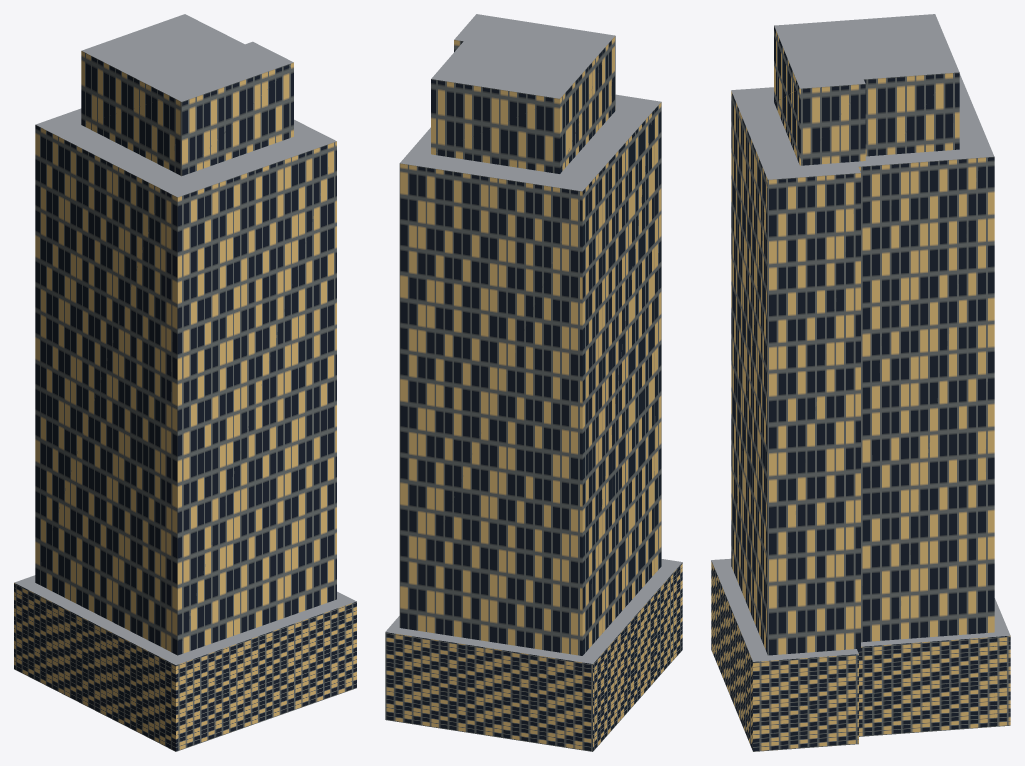
File: jp-morgan.glb
3 renders of one model, left to right at view 1: azimuth 30°, elevation 25°; view 2: azimuth 150°, elevation 25°; view 3: azimuth 270°, elevation 25°, orthographic. The views are drawn at different scales.
Parts seen in each view (by area): view 1: jp-morgan; view 2: jp-morgan; view 3: jp-morgan.
Part boxes in pixels (box(x1,y1,x2,y2)): jp-morgan: box(14, 14, 356, 751); jp-morgan: box(385, 14, 682, 751); jp-morgan: box(711, 14, 1010, 751).
Size of the model in its own units: 0.8287 by 2.06 by 0.8698.
Materials: 2 (1 with a texture image).
